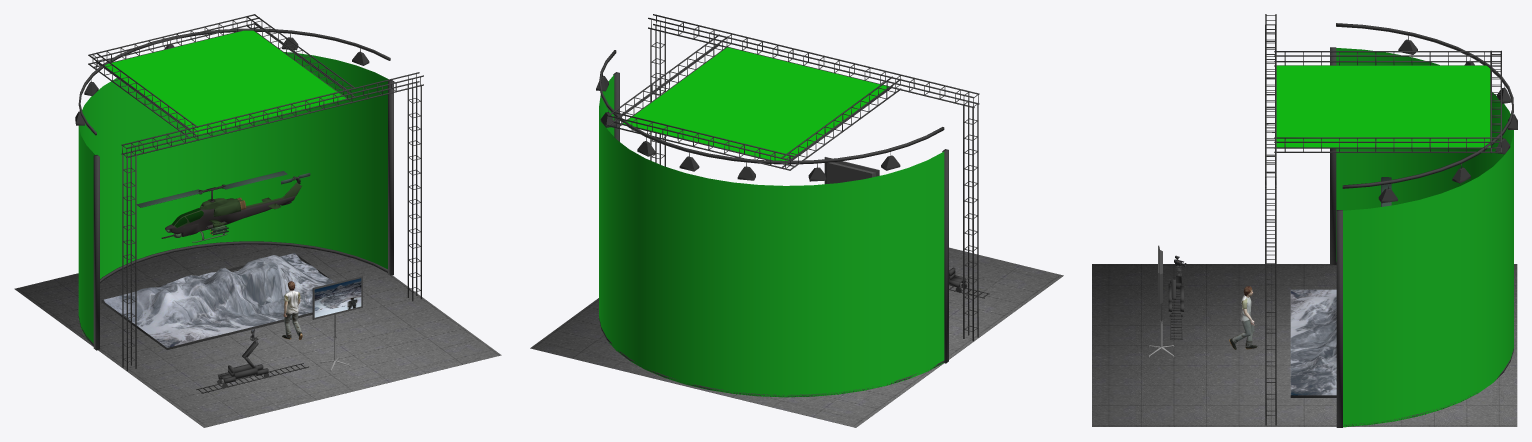
File: virtual_production_without_animation_2.glb
3 views of the same model, side by side, from view 1: azimuth 30°, elevation 25°; view 2: azimuth 150°, elevation 25°; view 3: azimuth 270°, elevation 25° (orthographic). The views are drawn at different scales.
Parts seen in each view (by area): view 1: Allermuir_Chair_, Rectangle003.001, Rectangle004, Rectangle002, CMan0002_W; view 2: Allermuir_Chair_, Rectangle003.001; view 3: Allermuir_Chair_, Rectangle003.001, Rectangle004, CMan0002_W.
Part boxes in pixels (bbox=[...]): Allermuir_Chair_: bbox=[75, 14, 423, 393]; Rectangle003.001: bbox=[14, 244, 501, 427]; Rectangle004: bbox=[104, 253, 334, 347]; Rectangle002: bbox=[252, 278, 361, 331]; CMan0002_W: bbox=[282, 281, 302, 340]; Allermuir_Chair_: bbox=[596, 14, 989, 397]; Rectangle003.001: bbox=[530, 247, 1063, 427]; Allermuir_Chair_: bbox=[1148, 14, 1517, 427]; Rectangle003.001: bbox=[1092, 264, 1517, 426]; Rectangle004: bbox=[1290, 289, 1336, 395]; CMan0002_W: bbox=[1229, 286, 1257, 349].
Size of the model in its own units: 17.17 by 12.18 by 18.8.
Materials: 8 (8 with a texture image).
